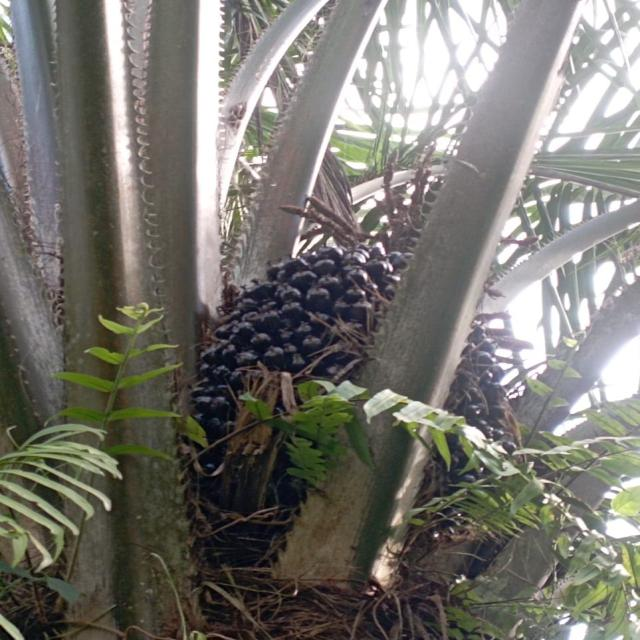fraksi 00: (184, 218, 584, 494)
